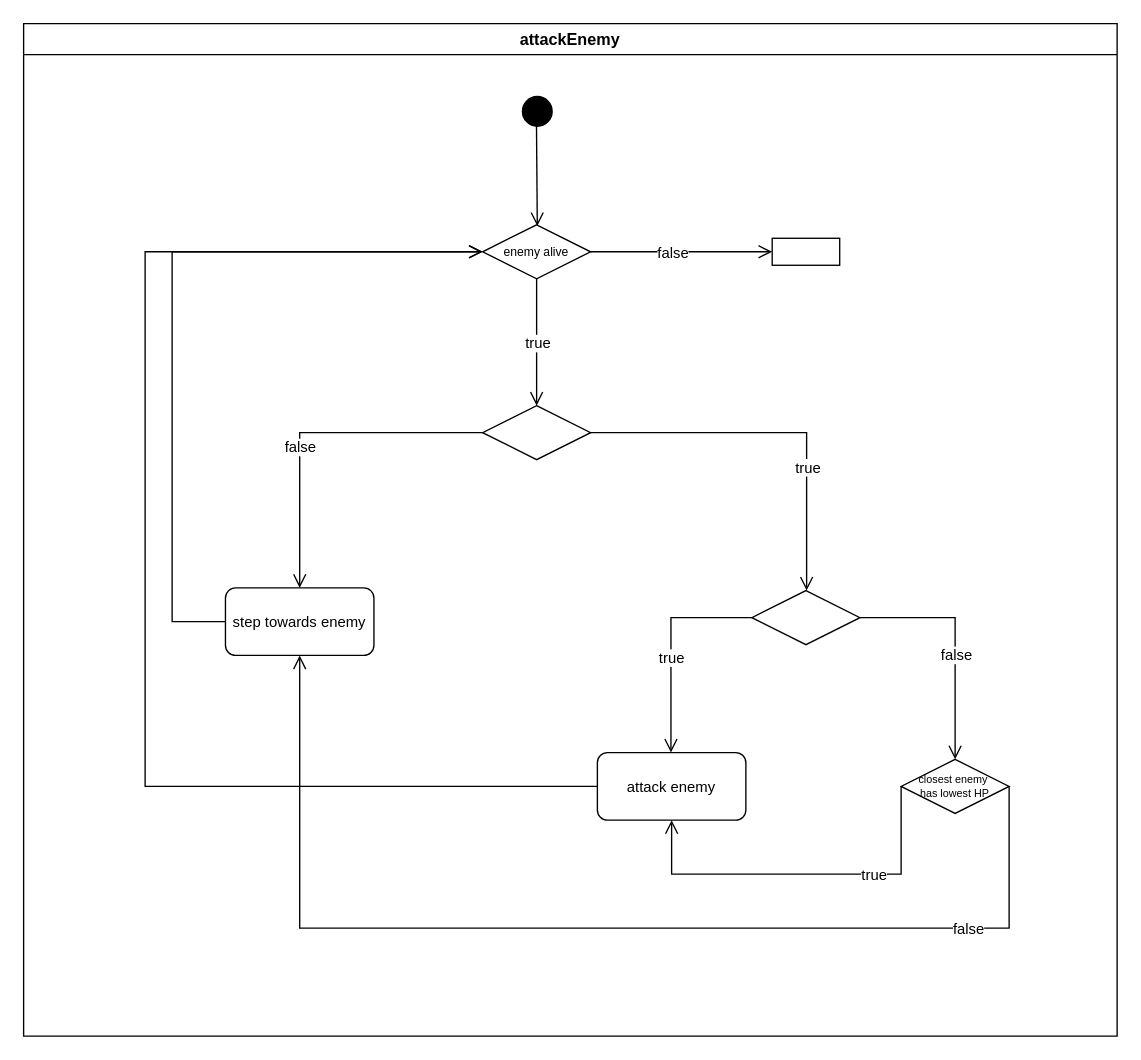
Some shapes in this 1141 by 1060 pixel diagram are drawn without their labels. The shapes that lost their labels are listed below. From the top down, each one's box as (x1, y1, x2, y2) in pixels, then its label:
(771, 237, 840, 265): pickupPrincess
(481, 404, 591, 460): enemy in attack range
(751, 589, 860, 645): enemy alone
